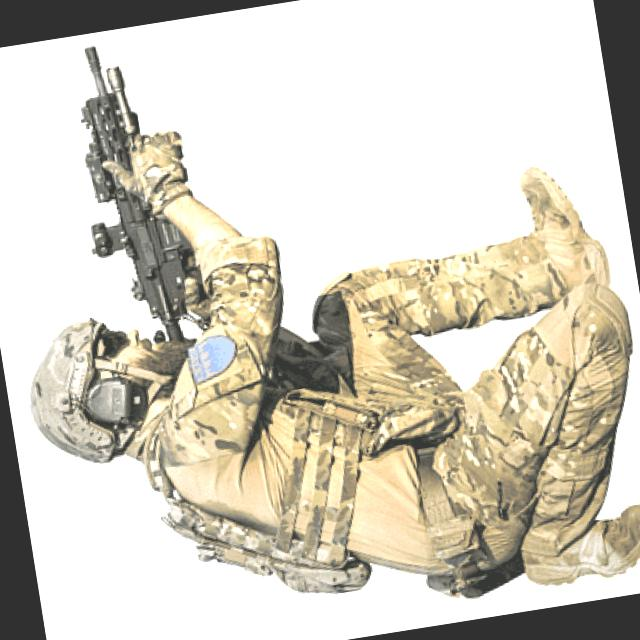long weapon: (55, 25, 236, 327)
